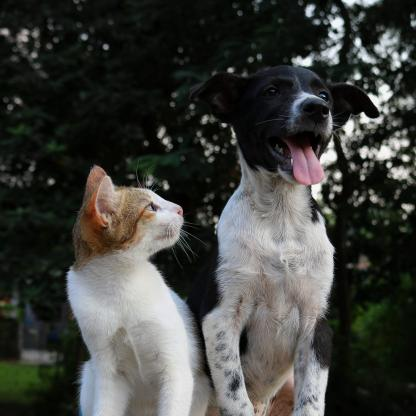cat: (45, 149, 202, 279)
dog: (209, 40, 370, 224)
